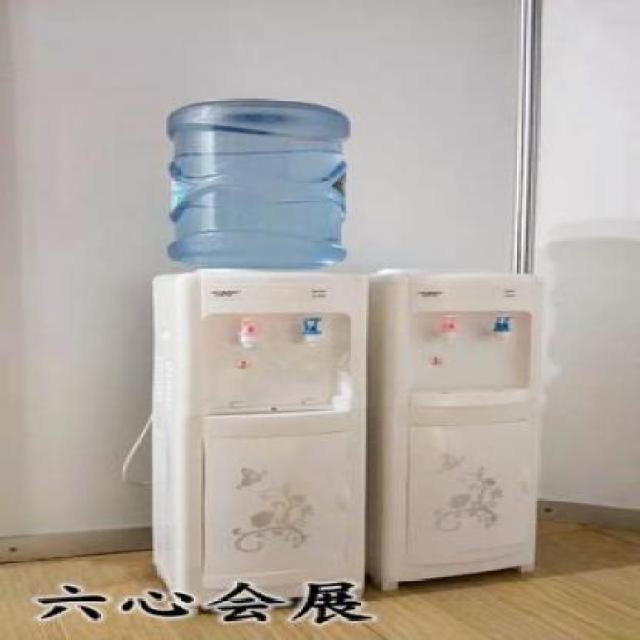cooler: (154, 101, 365, 607), (360, 270, 552, 598)
